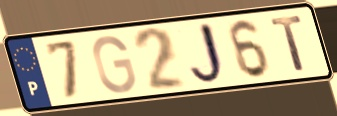2: (132, 25, 191, 94)
6: (226, 17, 274, 81)
7: (43, 37, 83, 100)
G: (90, 34, 139, 96)
J: (187, 20, 231, 88)
T: (268, 13, 308, 74)
